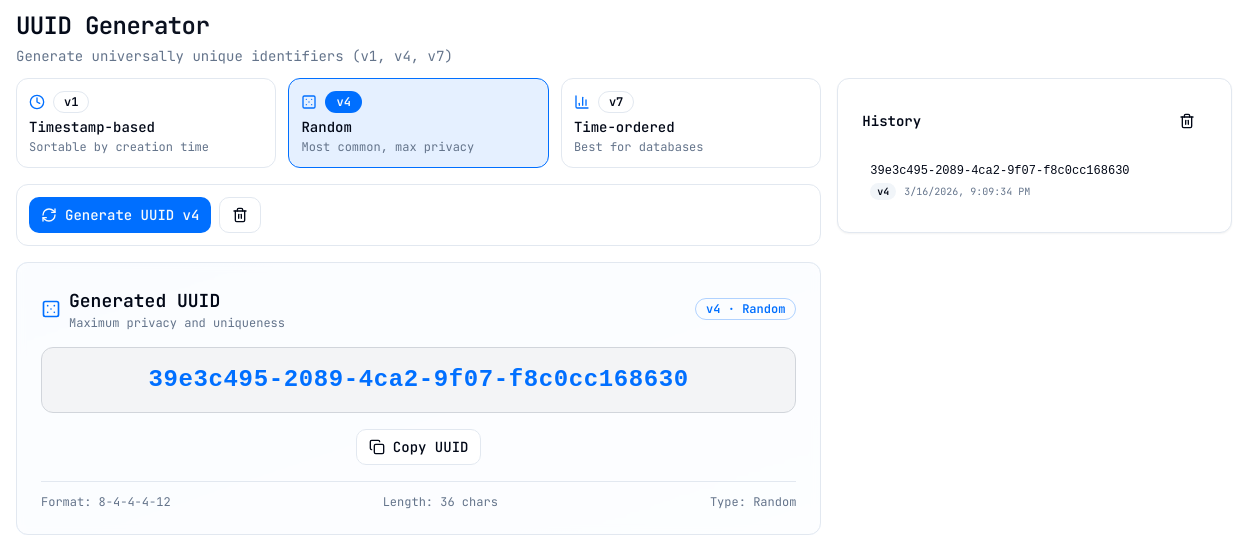
Test: UUIDPage › history sidebar › clears history
The width and height of the screenshot is (1249, 552).
Click the button named "Clear history" at coordinates (1187, 121), box [1167, 103, 1207, 139]
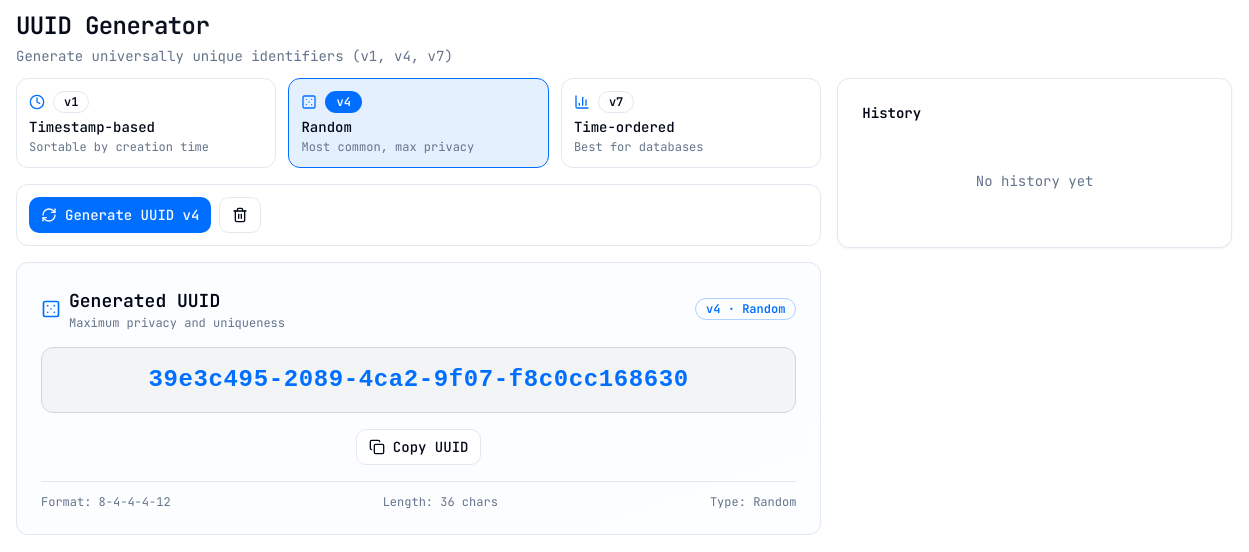
Expected: the text "No history yet" is shown, [976, 172, 1093, 190]
